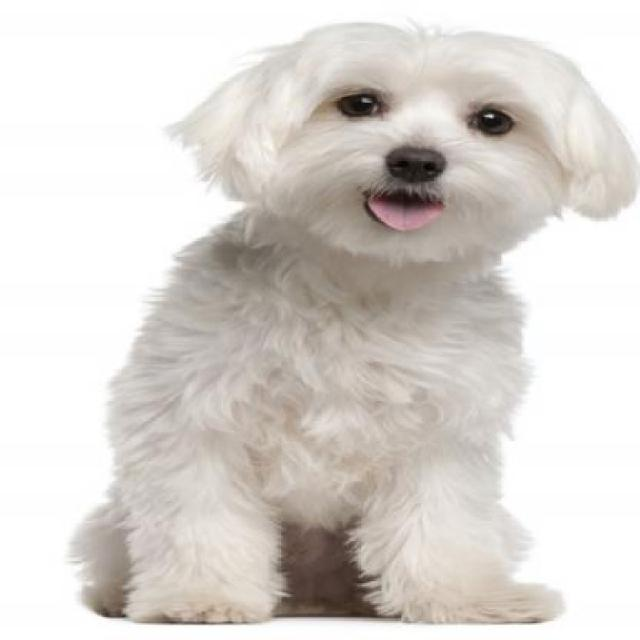Dog: (68, 15, 632, 628)
